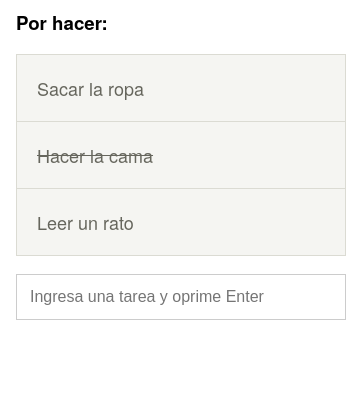
Test: creates a new task with the correct text
Type "Hola" into the field with id "new-task" at (181, 297), box [16, 274, 346, 320]
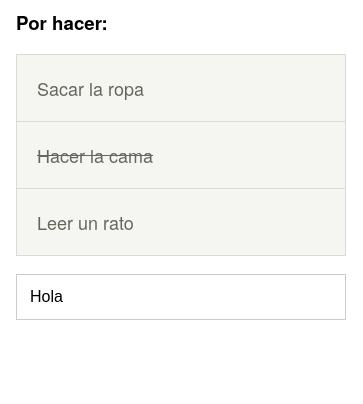
Submit the form, box [16, 274, 346, 320]
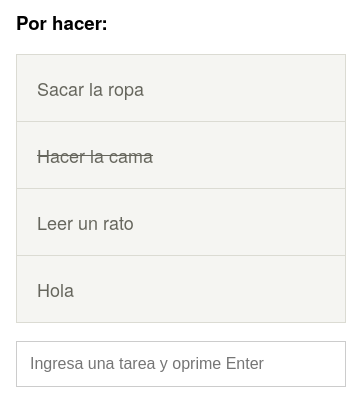
Expected: the number of list items is 4, [17, 55, 345, 122]
Result: the list item "Hola" is shown at [37, 276, 74, 302]
